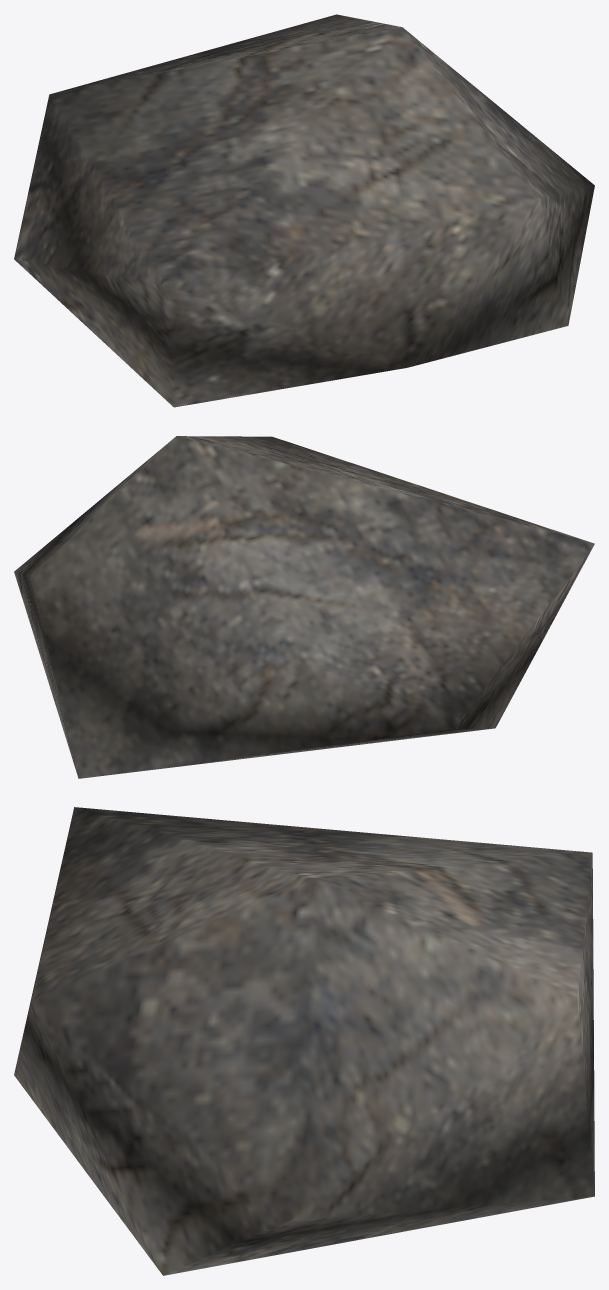
Rendered from RockSm1_4_LOD1.fbx.
The picture shows the model from 3 angles, top to bottom: view 1: azimuth 30°, elevation 25°; view 2: azimuth 150°, elevation 25°; view 3: azimuth 270°, elevation 25°; orthographic projection. The views are drawn at different scales.
Parts seen in each view (by area): view 1: polySurface219; view 2: polySurface219; view 3: polySurface219.
Boxes of the visible parts, x1,y1,x2,y2 form: polySurface219: (14,14,594,407); polySurface219: (14,436,594,778); polySurface219: (14,807,594,1275).
Size of the model in its own units: 54.51 by 27.83 by 43.75.
